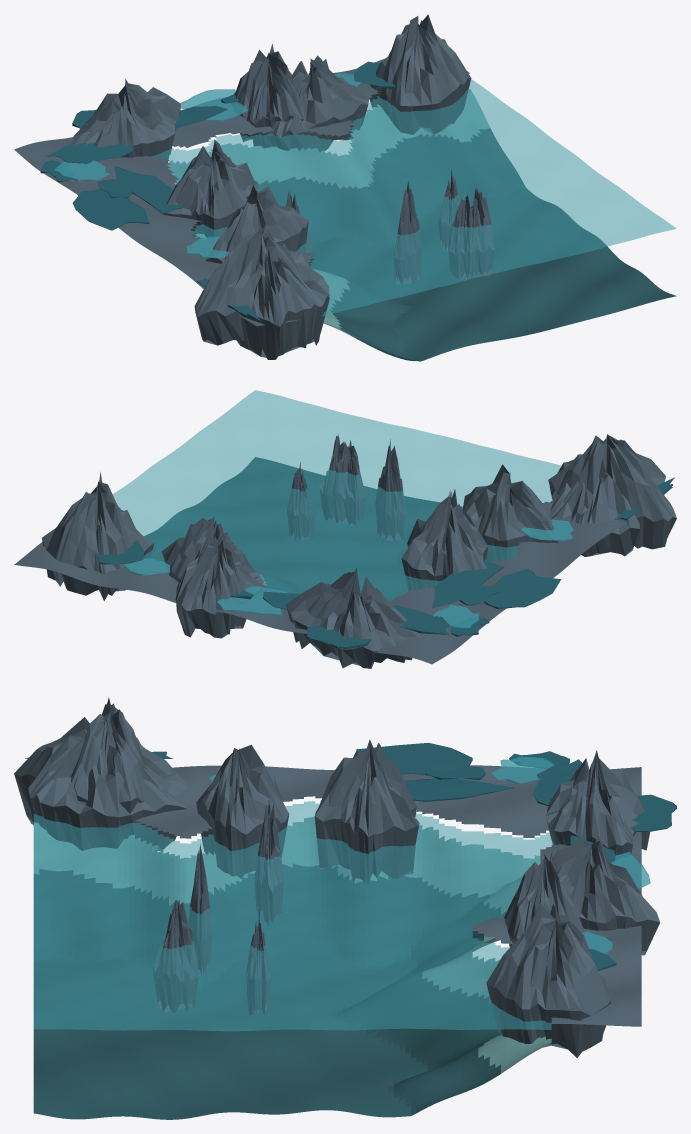
File: water_tile_03.glb
3 renders of one model, top to bottom at view 1: azimuth 30°, elevation 25°; view 2: azimuth 150°, elevation 25°; view 3: azimuth 270°, elevation 25°, orthographic. The views are drawn at different scales.
Parts seen in each view (by area): view 1: glacial water surface 03, submerged mineral riverbed.003, single continuous dark slate shoreline.003, visible shallow mineral shelves.003, angular fractured shoreline ledge.041, angular fractured shoreline ledge.045, angular fractured shoreline ledge.042, angular fractured shoreline ledge.046, angular fractured shoreline ledge.043, angular fractured shoreline ledge.044, angular fractured shoreline ledge.040, angular fractured shoreline ledge.047 (+12 smaller); view 2: glacial water surface 03, submerged mineral riverbed.003, single continuous dark slate shoreline.003, angular fractured shoreline ledge.042, angular fractured shoreline ledge.041, angular fractured shoreline ledge.040, angular fractured shoreline ledge.046, angular fractured shoreline ledge.047, angular fractured shoreline ledge.044, angular fractured shoreline ledge.045, underwater worn boulder.010, underwater worn boulder.011 (+14 smaller); view 3: submerged mineral riverbed.003, glacial water surface 03, visible shallow mineral shelves.003, single continuous dark slate shoreline.003, angular fractured shoreline ledge.045, angular fractured shoreline ledge.041, angular fractured shoreline ledge.044, angular fractured shoreline ledge.047, angular fractured shoreline ledge.042, angular fractured shoreline ledge.040, angular fractured shoreline ledge.046, underwater worn boulder.013 (+12 smaller).
Boxes of the visible parts, left/top/right/bottom form: glacial water surface 03: left=149, top=79, right=676, bottom=315; submerged mineral riverbed.003: left=256, top=128, right=676, bottom=361; single continuous dark slate shoreline.003: left=14, top=58, right=469, bottom=326; visible shallow mineral shelves.003: left=167, top=89, right=489, bottom=337; angular fractured shoreline ledge.041: left=369, top=14, right=471, bottom=134; angular fractured shoreline ledge.045: left=236, top=236, right=329, bottom=359; angular fractured shoreline ledge.042: left=69, top=79, right=180, bottom=162; angular fractured shoreline ledge.046: left=194, top=224, right=310, bottom=345; angular fractured shoreline ledge.043: left=266, top=55, right=369, bottom=152; angular fractured shoreline ledge.044: left=163, top=139, right=257, bottom=237; angular fractured shoreline ledge.040: left=231, top=43, right=303, bottom=148; angular fractured shoreline ledge.047: left=205, top=185, right=308, bottom=263; glacial water surface 03: left=113, top=390, right=561, bottom=601; submerged mineral riverbed.003: left=144, top=457, right=462, bottom=601; single continuous dark slate shoreline.003: left=14, top=487, right=672, bottom=664; angular fractured shoreline ledge.042: left=286, top=568, right=421, bottom=668; angular fractured shoreline ledge.041: left=42, top=472, right=154, bottom=600; angular fractured shoreline ledge.040: left=175, top=529, right=263, bottom=638; angular fractured shoreline ledge.046: left=548, top=434, right=676, bottom=549; angular fractured shoreline ledge.047: left=462, top=464, right=559, bottom=562; angular fractured shoreline ledge.044: left=401, top=496, right=488, bottom=590; angular fractured shoreline ledge.045: left=549, top=438, right=665, bottom=556; underwater worn boulder.010: left=375, top=439, right=406, bottom=542; underwater worn boulder.011: left=332, top=440, right=365, bottom=525; submerged mineral riverbed.003: left=33, top=863, right=506, bottom=1119; glacial water surface 03: left=33, top=801, right=554, bottom=1031; visible shallow mineral shelves.003: left=33, top=817, right=551, bottom=1073; single continuous dark slate shoreline.003: left=33, top=765, right=641, bottom=1026; angular fractured shoreline ledge.045: left=14, top=715, right=188, bottom=850; angular fractured shoreline ledge.041: left=486, top=903, right=611, bottom=1057; angular fractured shoreline ledge.044: left=314, top=739, right=419, bottom=883; angular fractured shoreline ledge.047: left=196, top=744, right=289, bottom=878; angular fractured shoreline ledge.042: left=545, top=750, right=649, bottom=862; angular fractured shoreline ledge.040: left=553, top=835, right=660, bottom=955; angular fractured shoreline ledge.046: left=71, top=697, right=146, bottom=838; underwater worn boulder.013: left=153, top=902, right=198, bottom=1012.
Size of the model in its own units: 1.08 by 0.3438 by 1.09.
